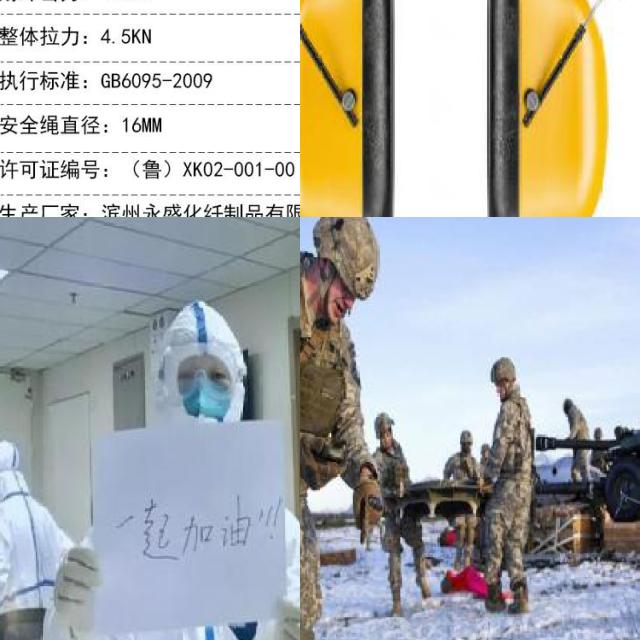Ear-protection: (300, 0, 631, 217)
face_nomask: (171, 351, 236, 436), (322, 277, 354, 333)
hand_glove: (53, 543, 102, 619), (300, 433, 348, 493), (353, 484, 382, 550), (275, 595, 300, 640)
hand_noglove: (394, 482, 406, 498), (478, 476, 485, 494)
head_helmet: (306, 217, 386, 297), (492, 354, 520, 386), (373, 410, 396, 437), (456, 433, 473, 451)
head_nohelmet: (155, 305, 247, 365), (0, 436, 31, 484)
person: (40, 291, 300, 640), (300, 217, 403, 640), (450, 351, 559, 616), (362, 405, 445, 616), (554, 388, 604, 486)
